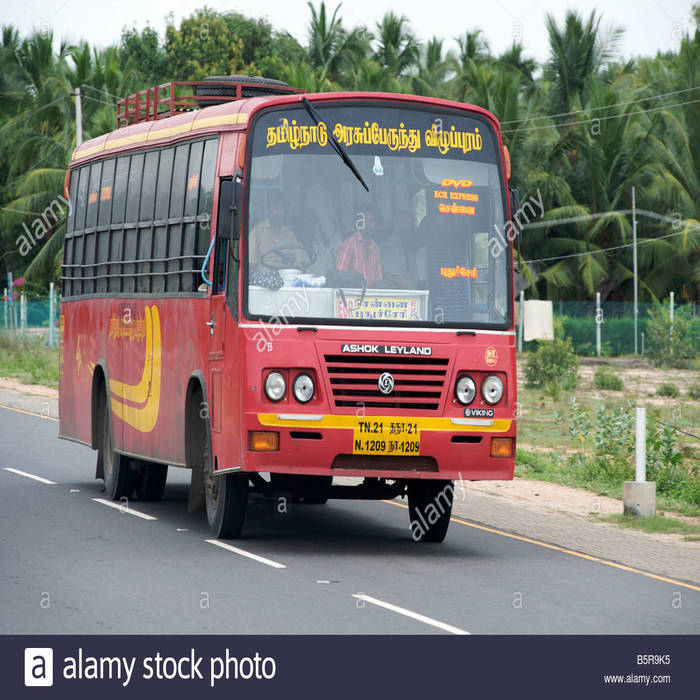n: (354, 419, 423, 455)
